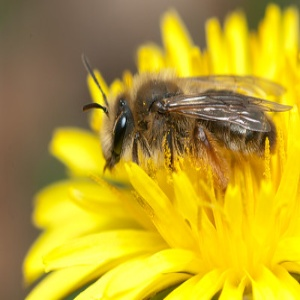bee: (77, 50, 295, 196)
